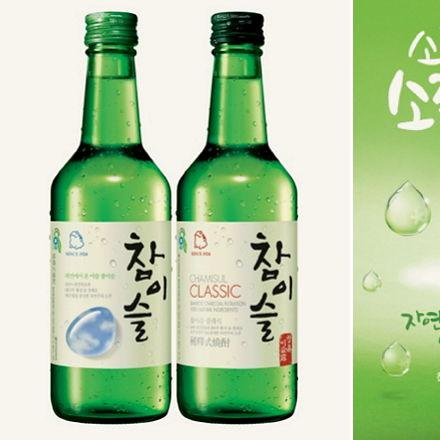soju: (46, 10, 303, 428)
